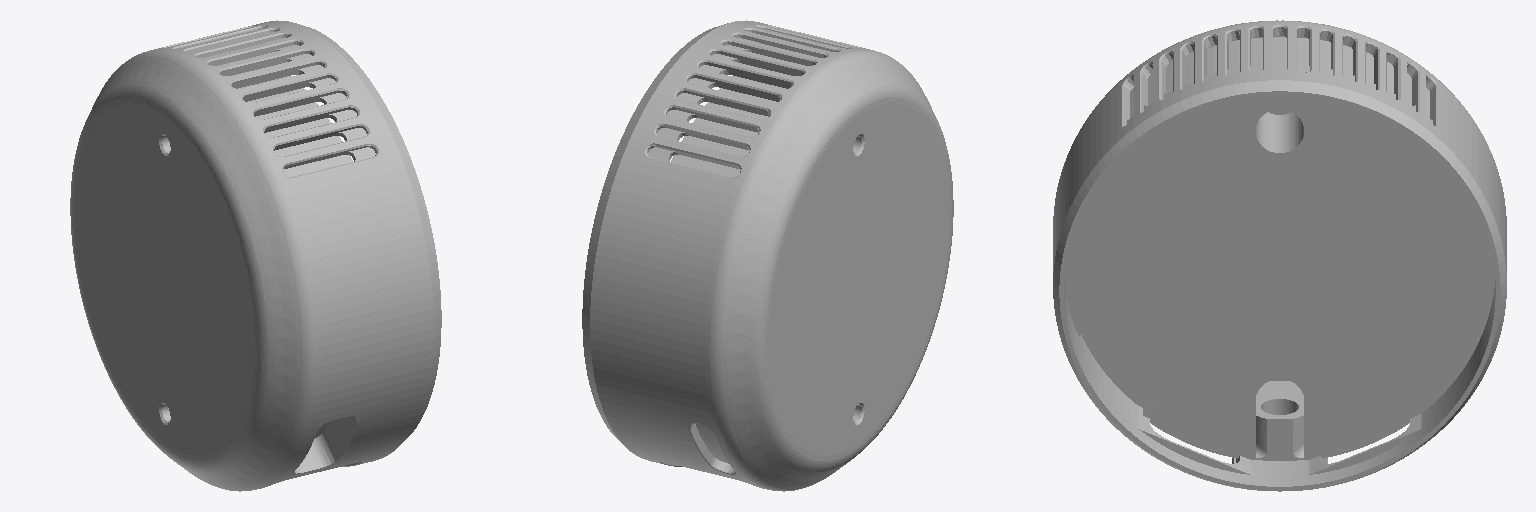
The robot description file, URDF, robot "realsense_d455":
<?xml version="1.0"?>
<robot name="realsense_d455">
  <material name="silver">
     <color rgba="0.75 0.75 0.75 1"/>
  </material>
  <material name="black">
     <color rgba="0.1 0.1 0.1 1"/>
  </material>
  <material name="gold">
     <color rgba="0.9 0.84 0.7 1"/>
  </material>


  <link name="case">
    <visual>
      <origin rpy="0 0 1.57075" xyz="0 0 0"/>
      <material name="silver"/>
      <geometry>
        <mesh filename="assets/case.stl" />
      </geometry>
    </visual>
  </link>

  <link name="front_glass">
    <visual>
      <origin rpy="0 0 1.57075" xyz="0 0 0"/>
      <material name="black"/>
      <geometry>
        <mesh filename="assets/front_glass.stl" />
      </geometry>
    </visual>
  </link>

  <joint name="case_to_front_glass" type="fixed">
    <parent link="case"/>
    <child link="front_glass"/>
  </joint>
</robot>

--- Render facts (derived) ---
3 views of the same robot in one strip: view 1: azimuth 30°, elevation 25°; view 2: azimuth 150°, elevation 25°; view 3: azimuth 270°, elevation 25° (orthographic).
Model realsense_d455 with 2 links and 1 joints (1 fixed), rooted at case, posed all joints at 0.
Visible links, largest first — view 1: case; view 2: case; view 3: case.
Link boxes in pixels (x1,y1,x2,y2): case: (70, 20, 441, 491); case: (582, 20, 953, 491); case: (1053, 20, 1506, 491).
Bounding box of the posed robot: 0.026 × 0.061 × 0.0607 m (x, y, z).
Meshes: 2 distinct files referenced, 1 mesh visuals loaded (1 binary STL); not drawn: 1 (reference not matched to a file when rendering).